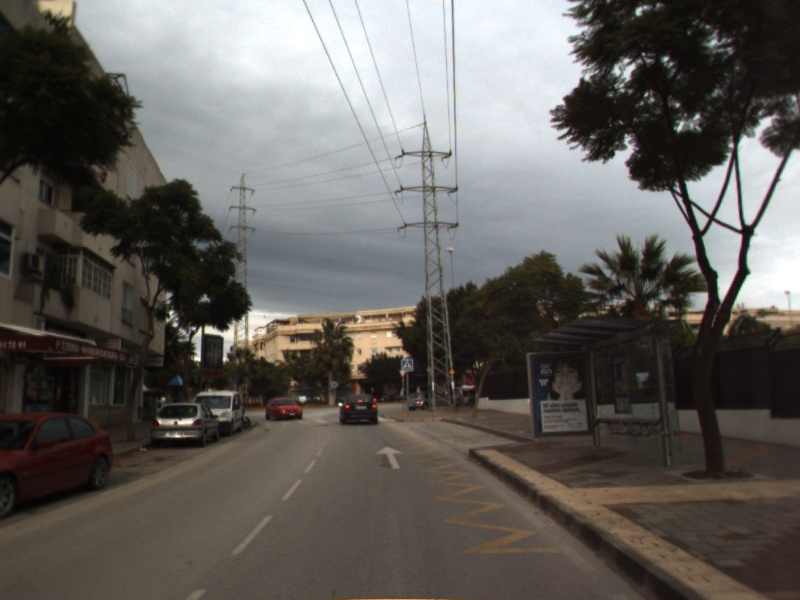STRAIGHT: (374, 443, 406, 471)
